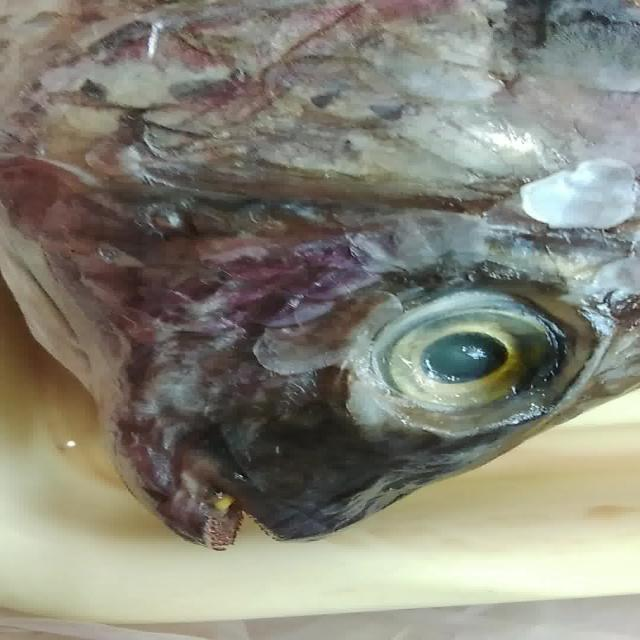Non-Fresh: (352, 260, 592, 443)
